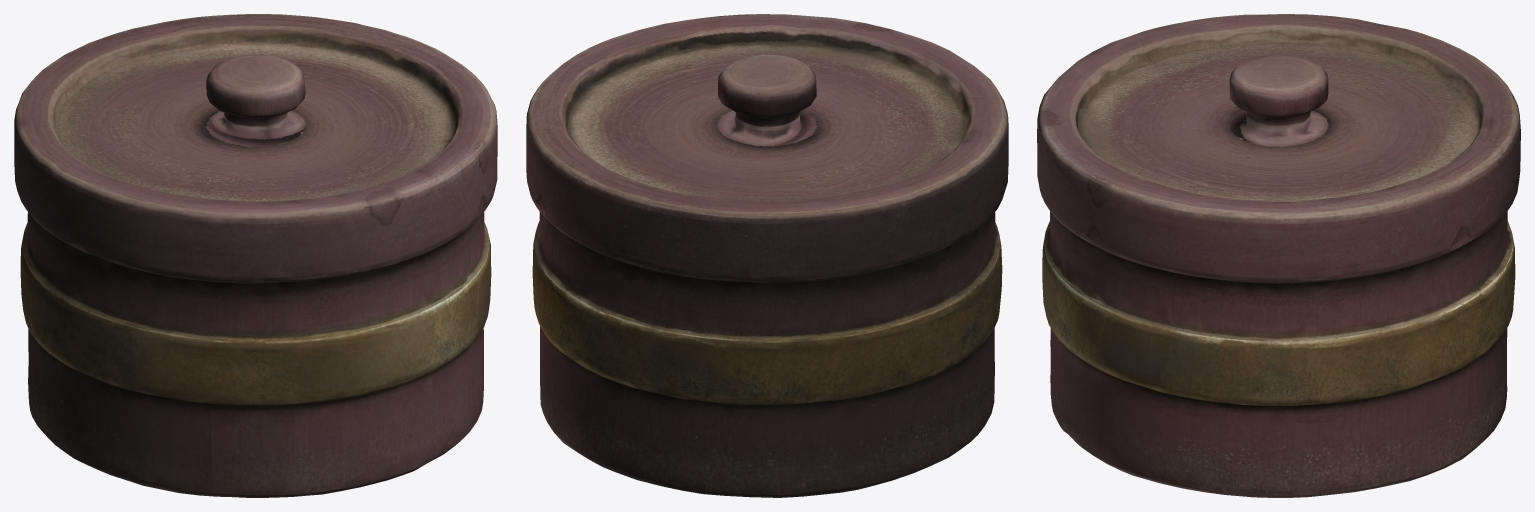
The model's file is Prop_HatBox.fbx.
3 renders of one model, left to right at view 1: azimuth 30°, elevation 25°; view 2: azimuth 150°, elevation 25°; view 3: azimuth 270°, elevation 25°, orthographic.
Parts seen in each view (by area): view 1: texture_mapping; view 2: texture_mapping; view 3: texture_mapping.
Boxes of the visible parts, x1,y1,x2,y2 form: texture_mapping: (14, 14, 497, 497); texture_mapping: (526, 14, 1008, 497); texture_mapping: (1037, 14, 1520, 497).
Bounding box in the file's own units: 1 × 1 × 0.7622.
1 material, 1 textured.
